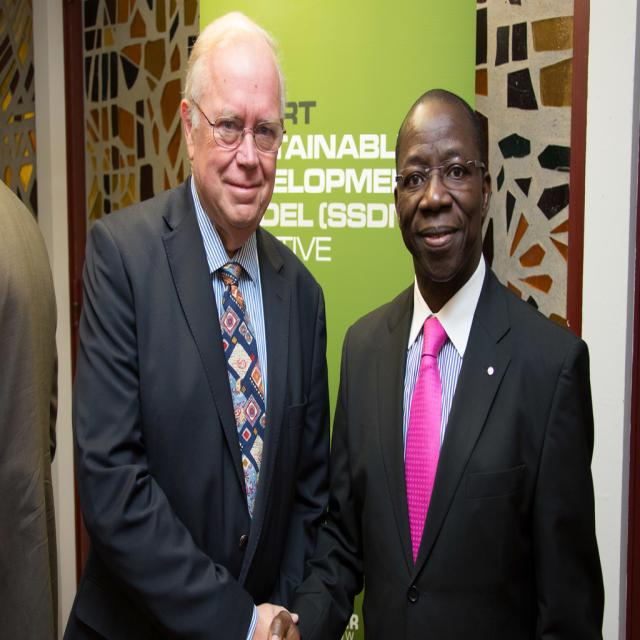no_helmet: (156, 104, 288, 277), (374, 158, 510, 302)
